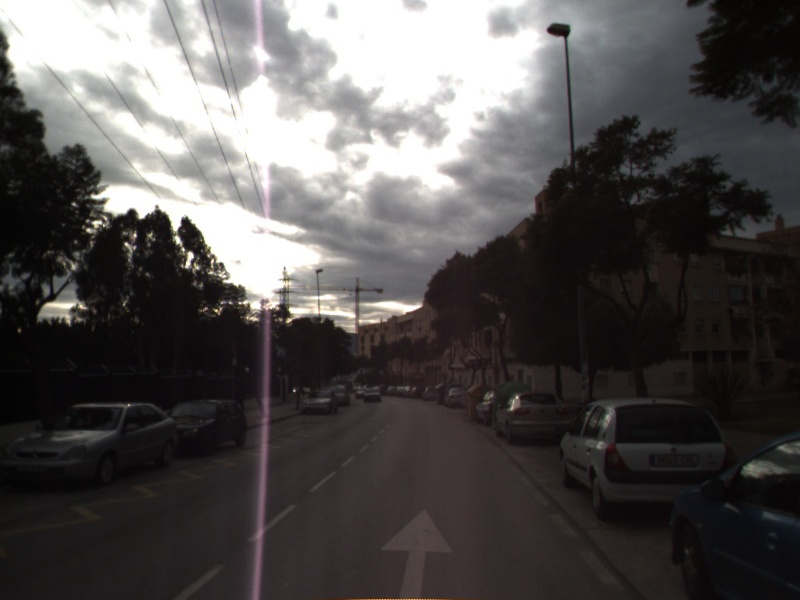STRAIGHT: (377, 504, 456, 600)
